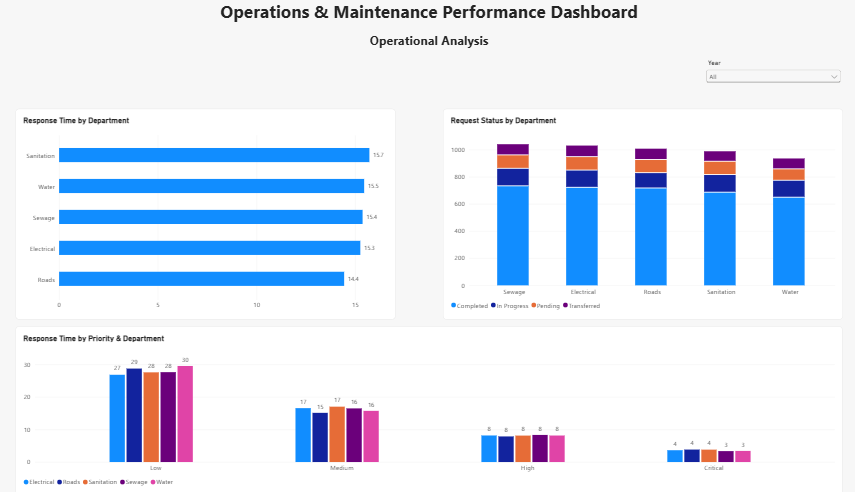

Layout of this report page (visuals, bound fields, positions):
{"tool":"powerbi","page":{"name":"Operational Analysis","canvas":[1920,1080],"ordinal":1},"visuals":[{"type":"columnChart","title":"Request Status by Department","fields":{"Category":["Maintenance_Requests.Department"],"Series":["Maintenance_Requests.Status"],"Y":["Maintenance_Requests.Total Requests"]},"box":[1021.5,235.9,870,458.8],"z":2000},{"type":"clusteredBarChart","title":"Response Time by Department","fields":{"Category":["Maintenance_Requests.Department"],"Y":["Maintenance_Requests.Avg Response Hours"]},"box":[93.1,235.9,826.7,458.8],"z":3000},{"type":"clusteredColumnChart","title":"Response Time by Priority & Department","fields":{"Category":["Maintenance_Requests.Priority"],"Series":["Maintenance_Requests.Department"],"Y":["Maintenance_Requests.Avg Response Hours"]},"box":[93.1,709.8,1798.4,370.1],"z":5000},{"type":"textbox","box":[93.1,0,1798.4,127.7],"z":5001},{"type":"slicer","fields":{"Values":["DateTable.Year"]},"box":[1590.6,127.7,300.8,60.6],"z":5002}]}

Visuals, with their boxes in screenshot pixels (x1, y1, x2, y2), scaled from the page's 1920x1080 canvas onto the 855x492 screenshot:
"Request Status by Department" columnChart: [left=455, top=107, right=842, bottom=316]
"Response Time by Department" clusteredBarChart: [left=41, top=107, right=410, bottom=316]
"Response Time by Priority & Department" clusteredColumnChart: [left=41, top=323, right=842, bottom=491]
textbox: [left=41, top=0, right=842, bottom=58]
slicer - DateTable.Year: [left=708, top=58, right=842, bottom=86]
